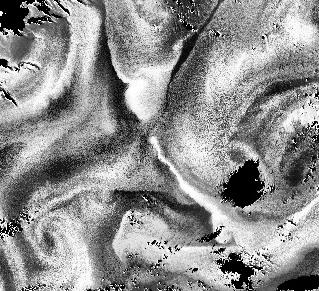CE: (17, 204, 94, 271)
